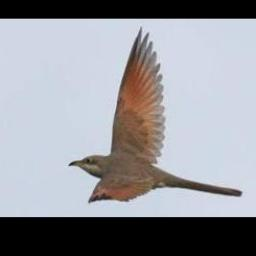Cuckoo: (68, 27, 241, 202)
